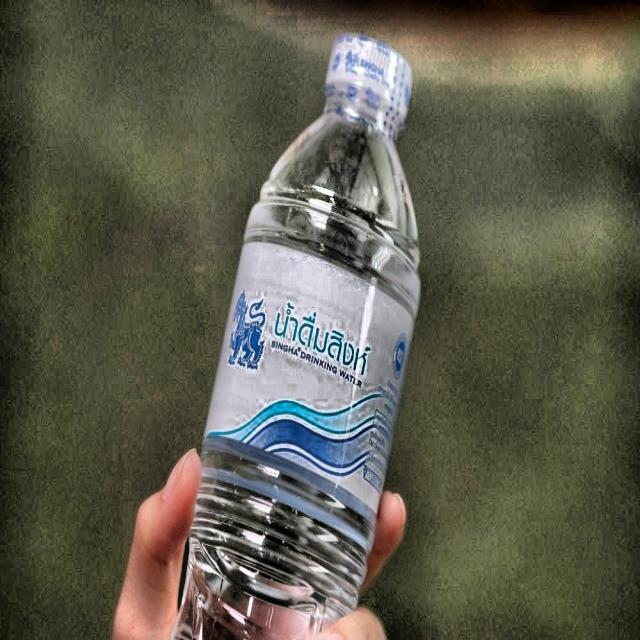Bottles: (170, 28, 422, 640)
